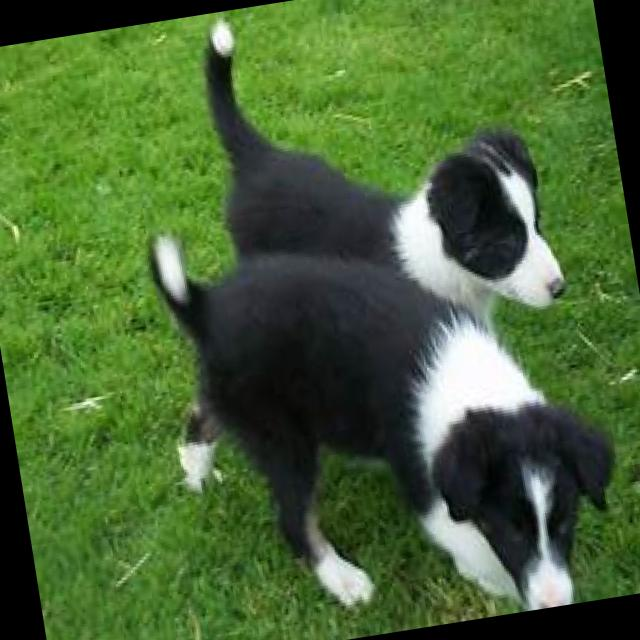animal: (155, 171, 637, 640), (198, 0, 565, 358)
